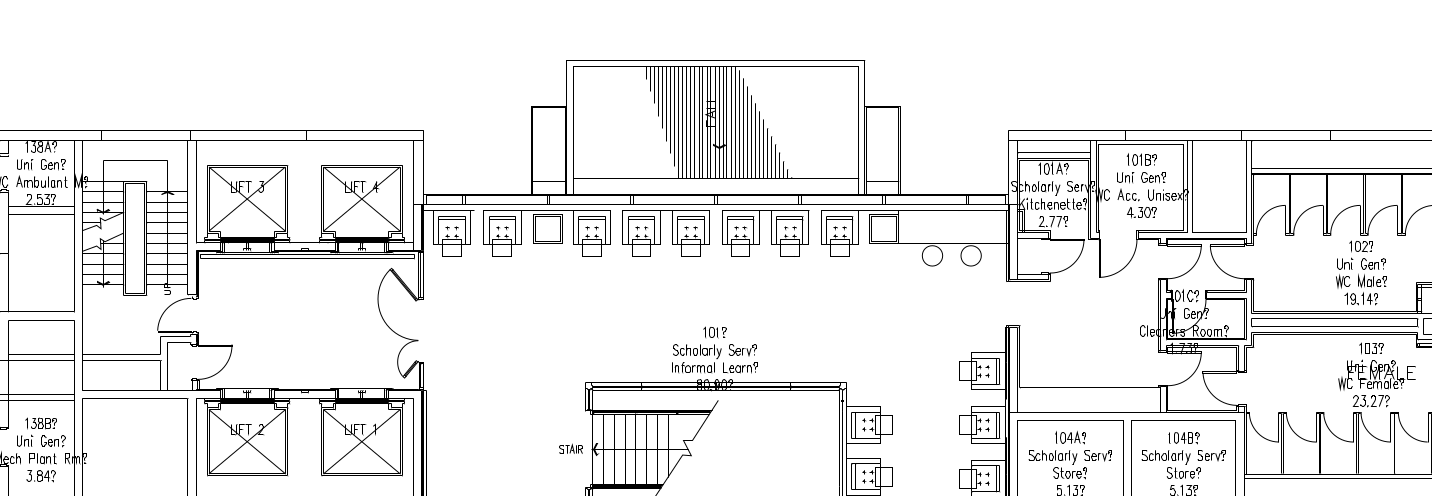door: (363, 264, 420, 387), (1096, 237, 1139, 284), (1199, 364, 1239, 410), (1166, 346, 1205, 393), (1167, 239, 1206, 286), (1208, 240, 1247, 287), (195, 341, 238, 380), (150, 296, 193, 335), (1051, 236, 1087, 273), (1252, 203, 1288, 240), (1290, 201, 1326, 238), (1327, 200, 1363, 237), (1366, 200, 1399, 239), (1395, 411, 1428, 449), (1361, 410, 1393, 449), (1324, 408, 1356, 447), (1287, 409, 1319, 448), (1249, 409, 1281, 448), (1403, 197, 1432, 240)
